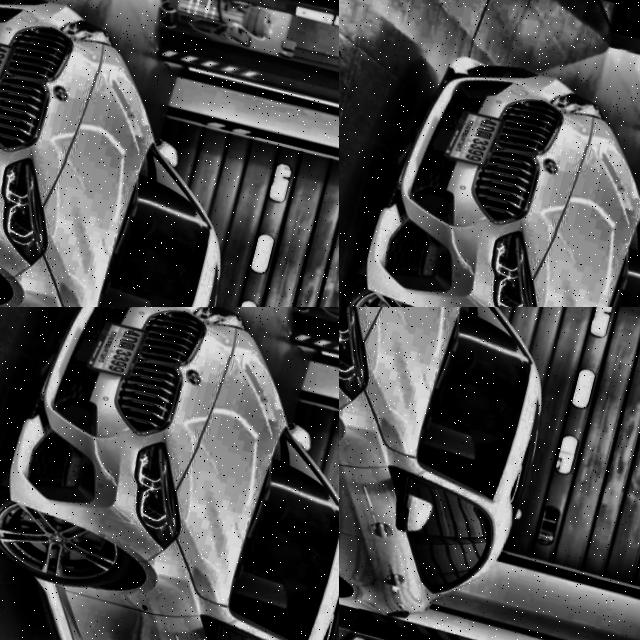license-plate: (0, 307, 49, 421)
